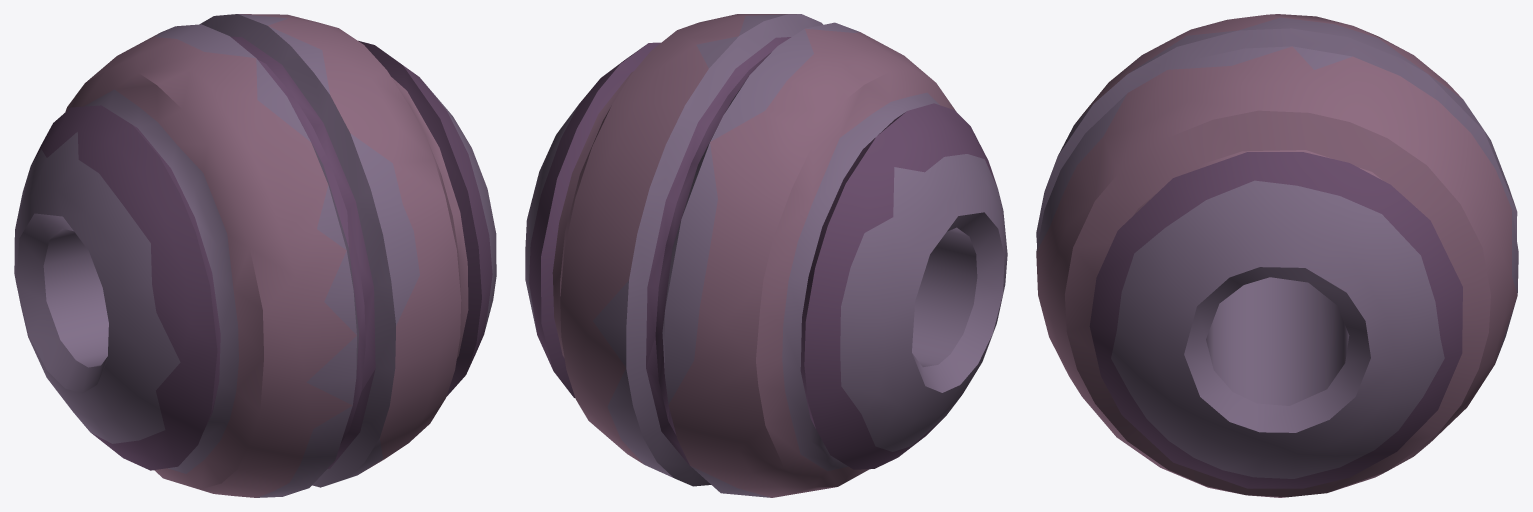
File: quaternius-ultimate-space-planet-8.glb
3 renders of one model, left to right at view 1: azimuth 30°, elevation 25°; view 2: azimuth 150°, elevation 25°; view 3: azimuth 270°, elevation 25°, orthographic.
Parts seen in each view (by area): view 1: Planet_8; view 2: Planet_8; view 3: Planet_8.
Boxes of the visible parts, box(x1,y1,x2,y2) form: Planet_8: box(14, 14, 496, 497); Planet_8: box(525, 14, 1007, 497); Planet_8: box(1036, 14, 1518, 497).
Size of the model in its own units: 3.45 by 3.75 by 3.75.
1 material, 1 textured.
